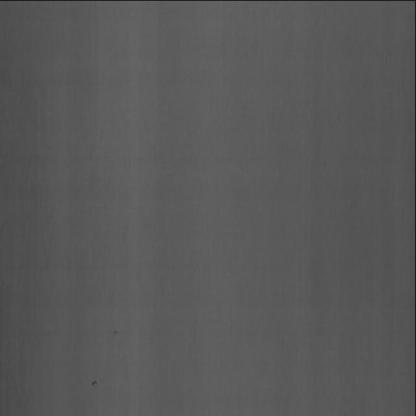inclusion: (86, 375, 100, 404), (108, 325, 124, 349)
